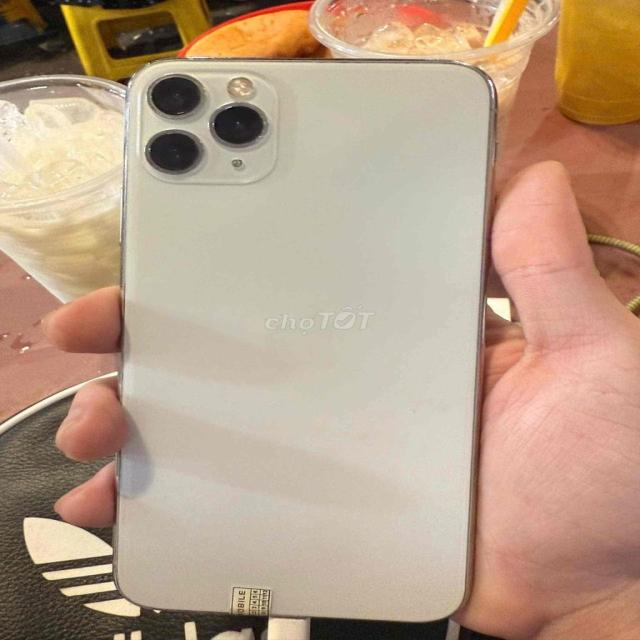gen_11: (100, 53, 509, 624)
